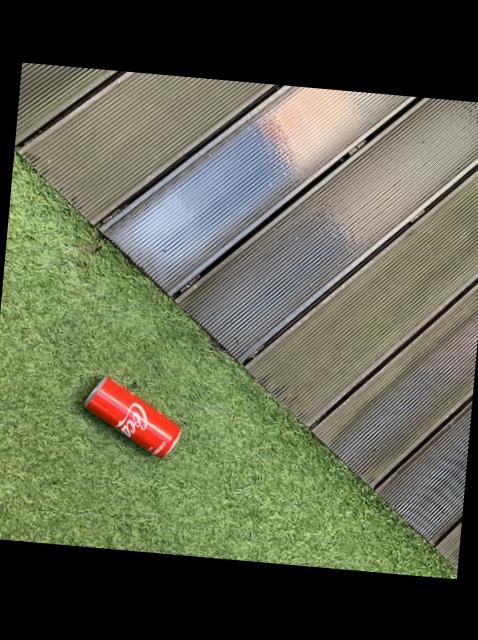metal: (85, 375, 181, 456)
